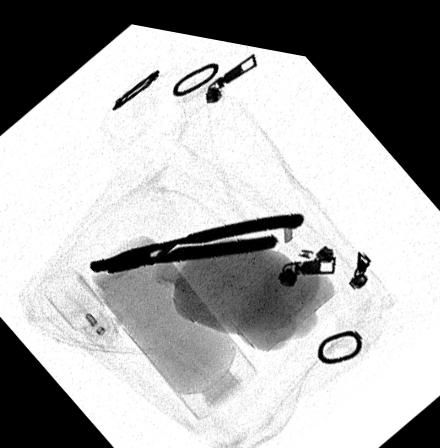Pliers: (85, 201, 309, 273)
